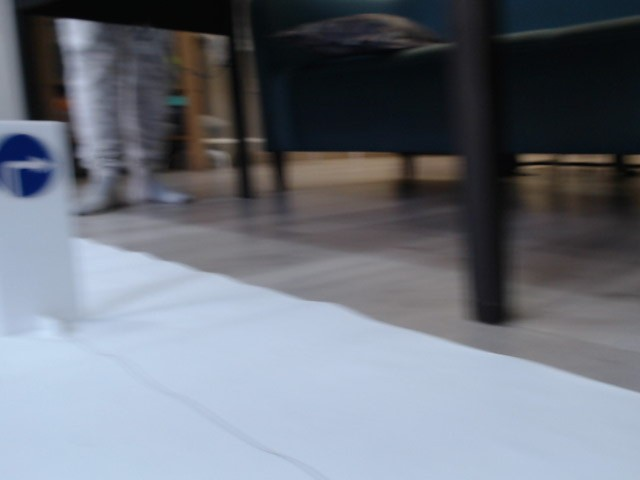Right: (1, 129, 54, 199)
